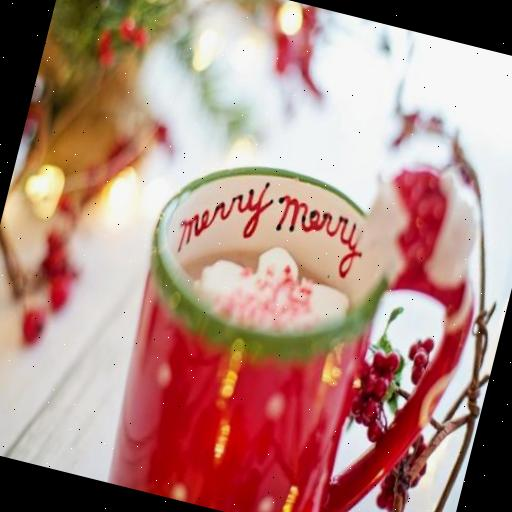cup: (93, 141, 495, 512)
